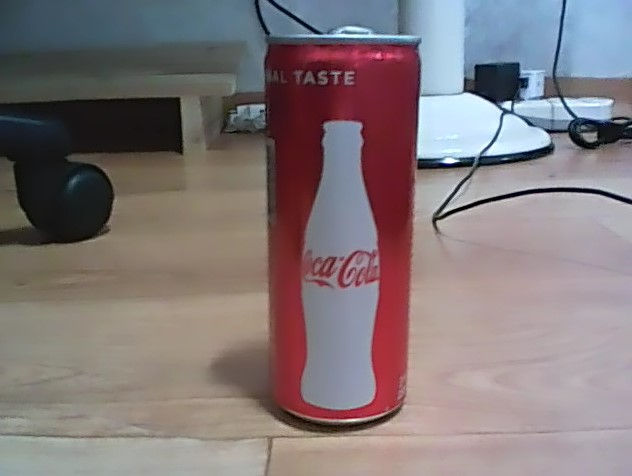Can: (258, 25, 424, 429)
